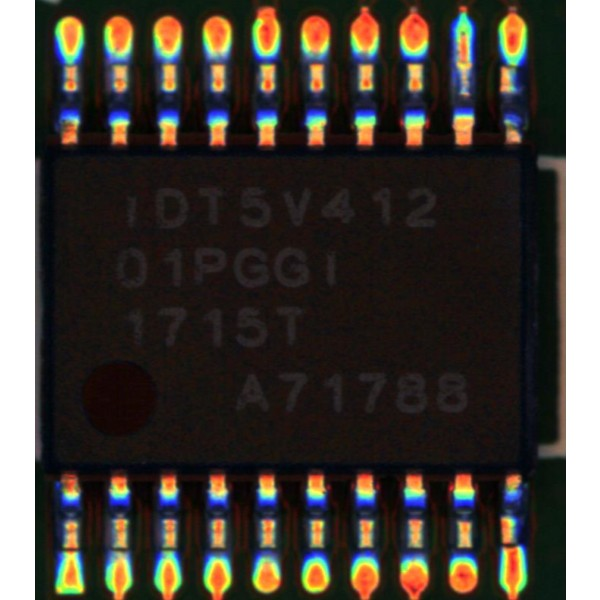Bad_podu: (457, 49, 472, 77), (504, 537, 517, 562)
